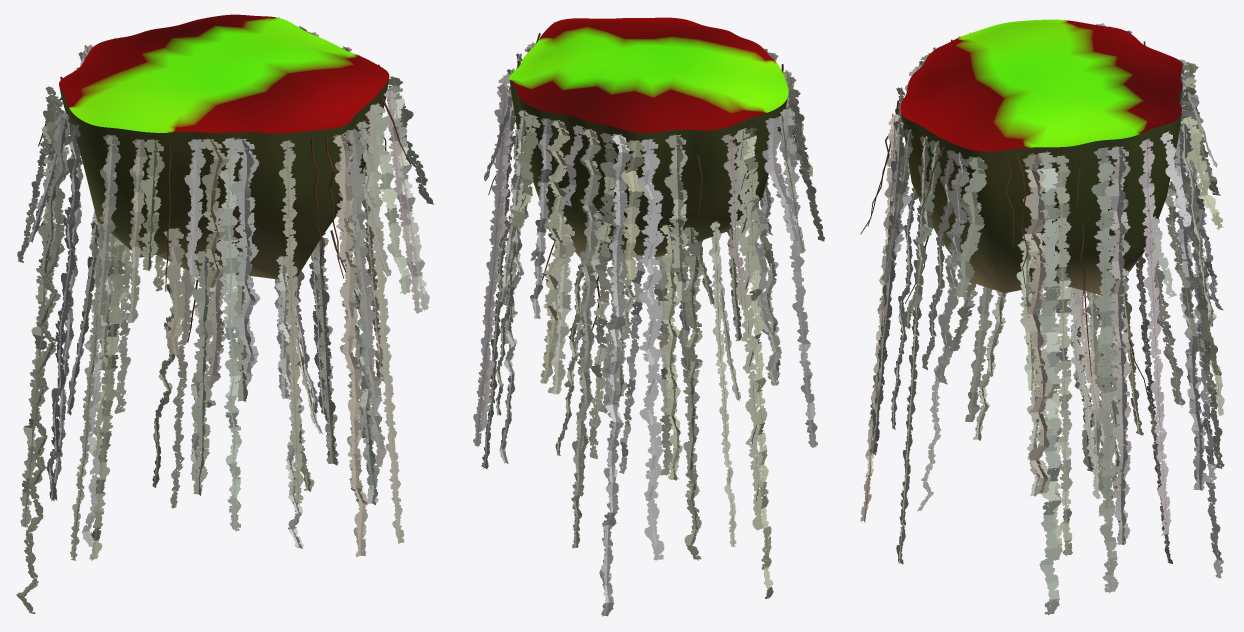
The model's file is SM_H04_Floater02.fbx.
The picture shows the model from 3 angles, left to right: view 1: azimuth 30°, elevation 25°; view 2: azimuth 150°, elevation 25°; view 3: azimuth 270°, elevation 25°; orthographic projection. The views are drawn at different scales.
Visible parts, largest first — view 1: SM_H04_Floater02_Ivy, SM_H04_Floater02; view 2: SM_H04_Floater02_Ivy, SM_H04_Floater02; view 3: SM_H04_Floater02_Ivy, SM_H04_Floater02.
Boxes of the visible parts, x1=… form: SM_H04_Floater02_Ivy: x1=16, y1=17, x2=433, y2=613; SM_H04_Floater02: x1=59, y1=14, x2=389, y2=280; SM_H04_Floater02_Ivy: x1=473, y1=22, x2=824, y2=616; SM_H04_Floater02: x1=509, y1=17, x2=788, y2=261; SM_H04_Floater02_Ivy: x1=860, y1=19, x2=1224, y2=615; SM_H04_Floater02: x1=900, y1=19, x2=1182, y2=296.
Size of the model in its own units: 21.22 by 30.4 by 19.58.
